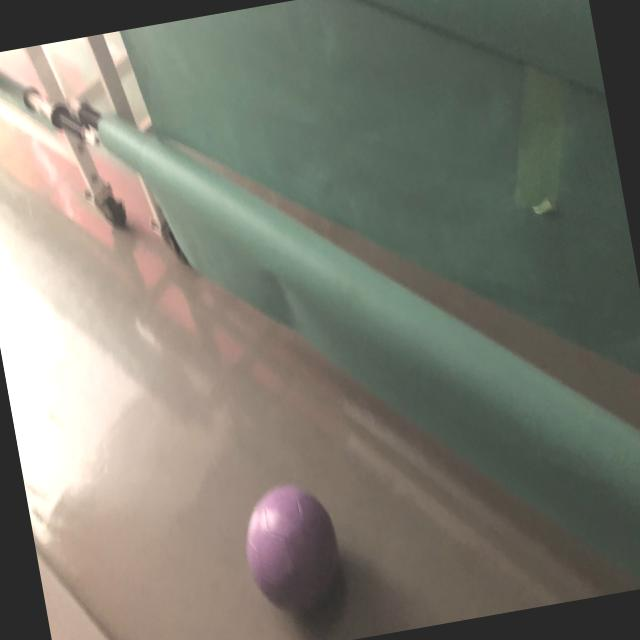purple_ball: (235, 479, 348, 617)
